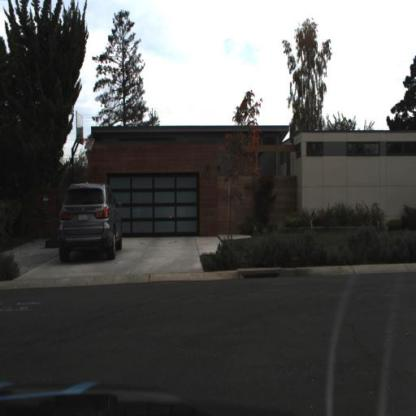car: (57, 182, 126, 260)
